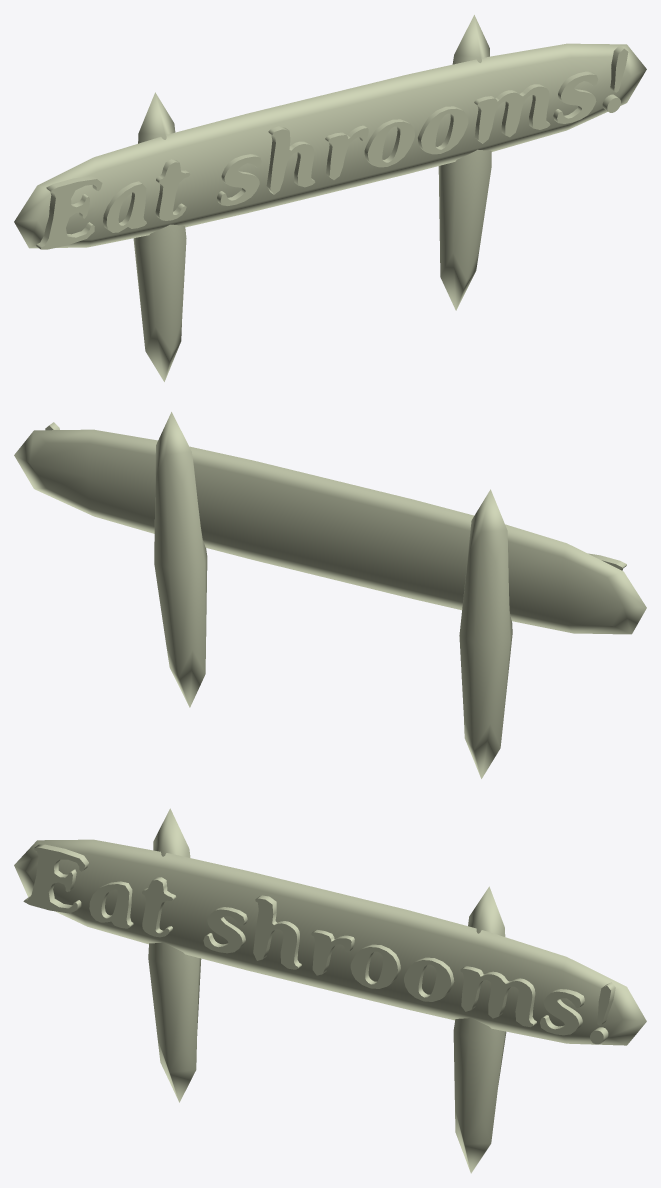
The model's file is eat.dae.
The picture shows the model from 3 angles, top to bottom: view 1: azimuth 30°, elevation 25°; view 2: azimuth 150°, elevation 25°; view 3: azimuth 330°, elevation 25°; orthographic projection.
Visible parts, largest first — view 1: Cube8-0, text6-0, Cube9_copy10-0, Cube9-0; view 2: Cube8-0, Cube9_copy10-0, Cube9-0; view 3: Cube8-0, text6-0, Cube9-0, Cube9_copy10-0.
Part boxes in pixels (bbox=[...]): Cube8-0: bbox=[14, 43, 646, 248]; text6-0: bbox=[36, 45, 628, 249]; Cube9_copy10-0: bbox=[438, 15, 491, 310]; Cube9-0: bbox=[133, 92, 186, 381]; Cube8-0: bbox=[14, 429, 646, 634]; Cube9_copy10-0: bbox=[154, 412, 207, 707]; Cube9-0: bbox=[459, 489, 512, 778]; Cube8-0: bbox=[14, 839, 646, 1045]; text6-0: bbox=[23, 844, 615, 1044]; Cube9-0: bbox=[148, 808, 201, 1102]; Cube9_copy10-0: bbox=[453, 886, 506, 1173].
Size of the model in its own units: 15.84 by 7 by 1.2.
